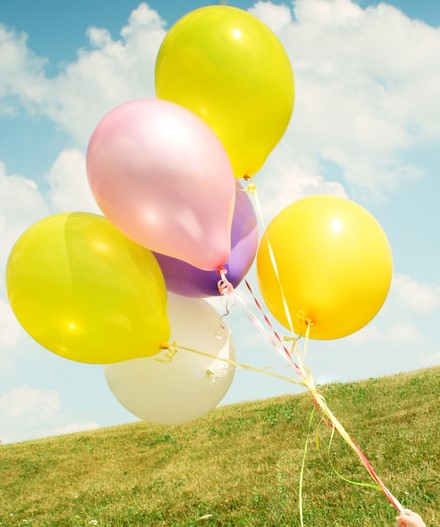Balloon: (87, 99, 234, 273), (155, 5, 295, 183), (6, 213, 171, 364), (258, 195, 392, 340)
